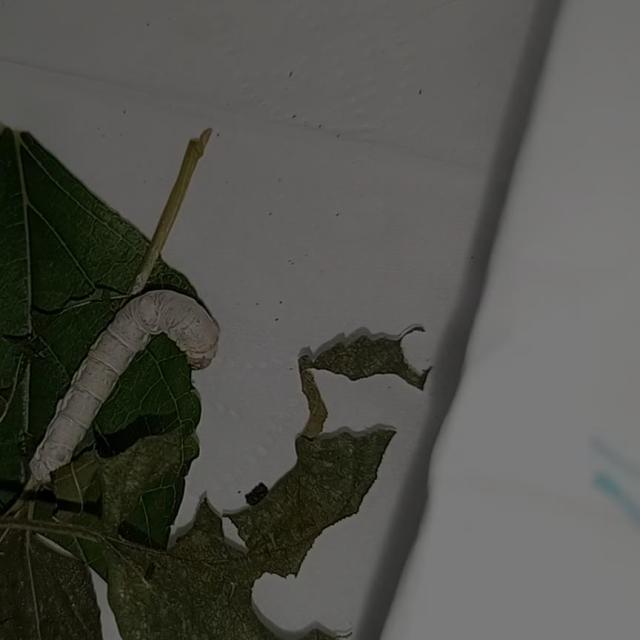Healthy: (15, 266, 227, 498)
